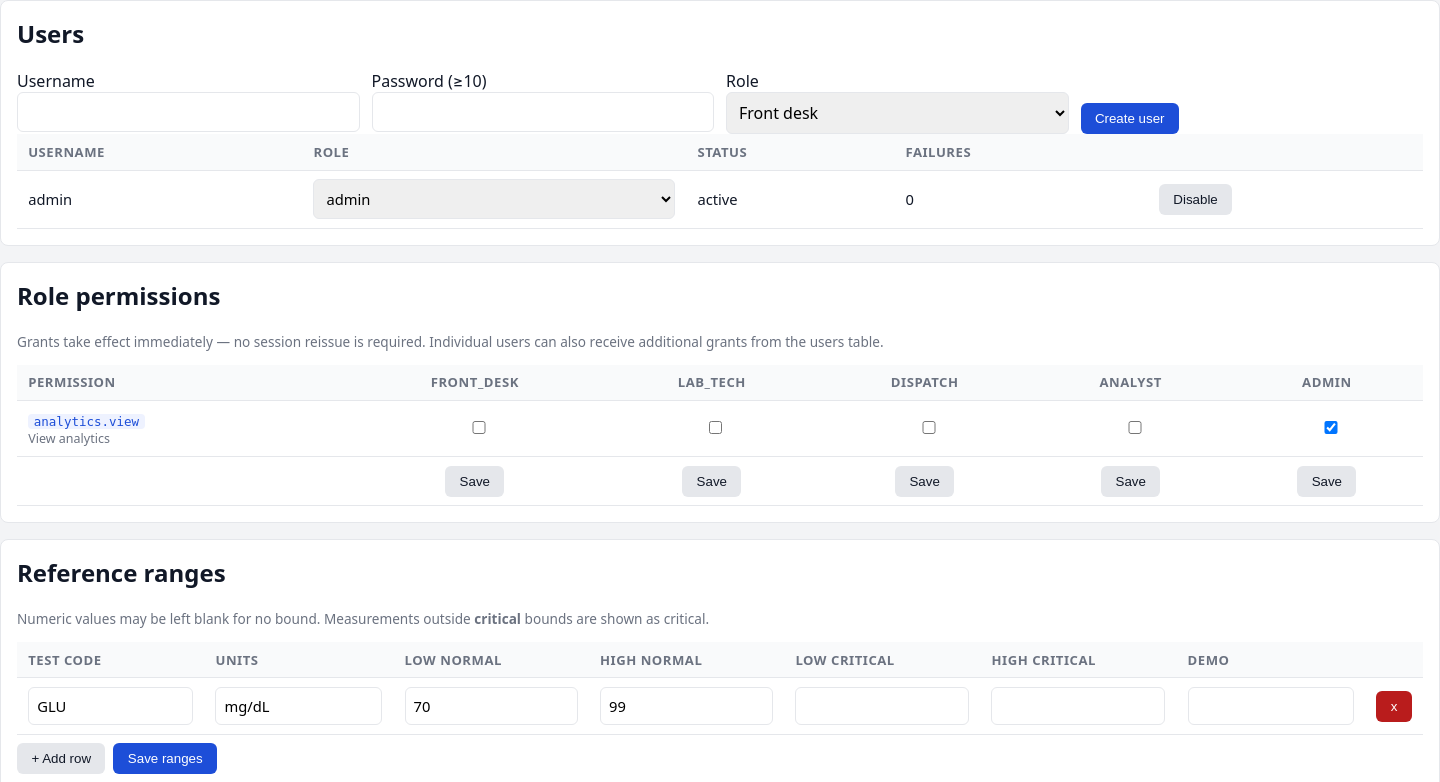
it: AdminPage › rejects new-user with short password
This screenshot has width=1440, height=782.
# Username + short password.
Type "newuser" into the field below "Password (≥10)" at point(188, 112), box [17,92,360,132]
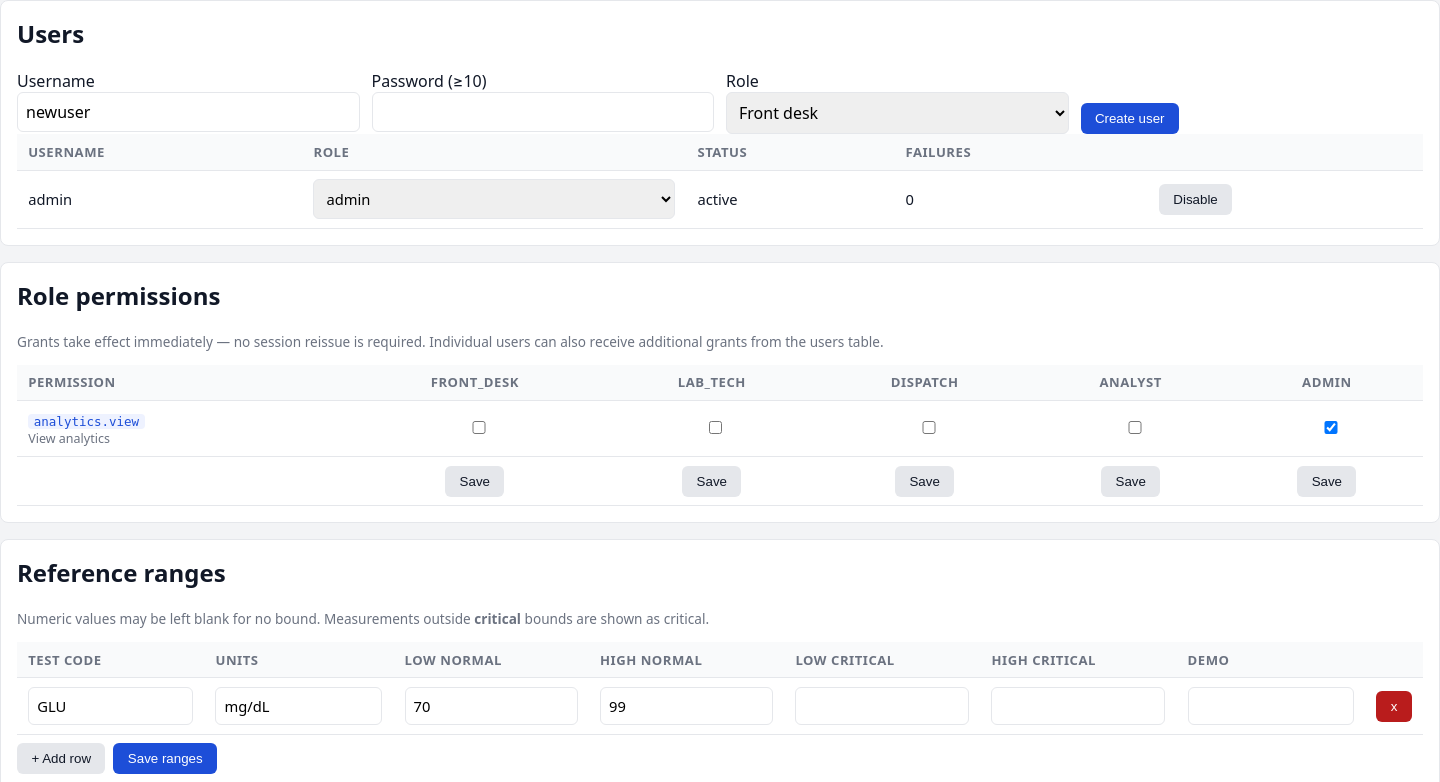
Click the button "Create user" at point(1130, 118), box [1080,103,1179,134]
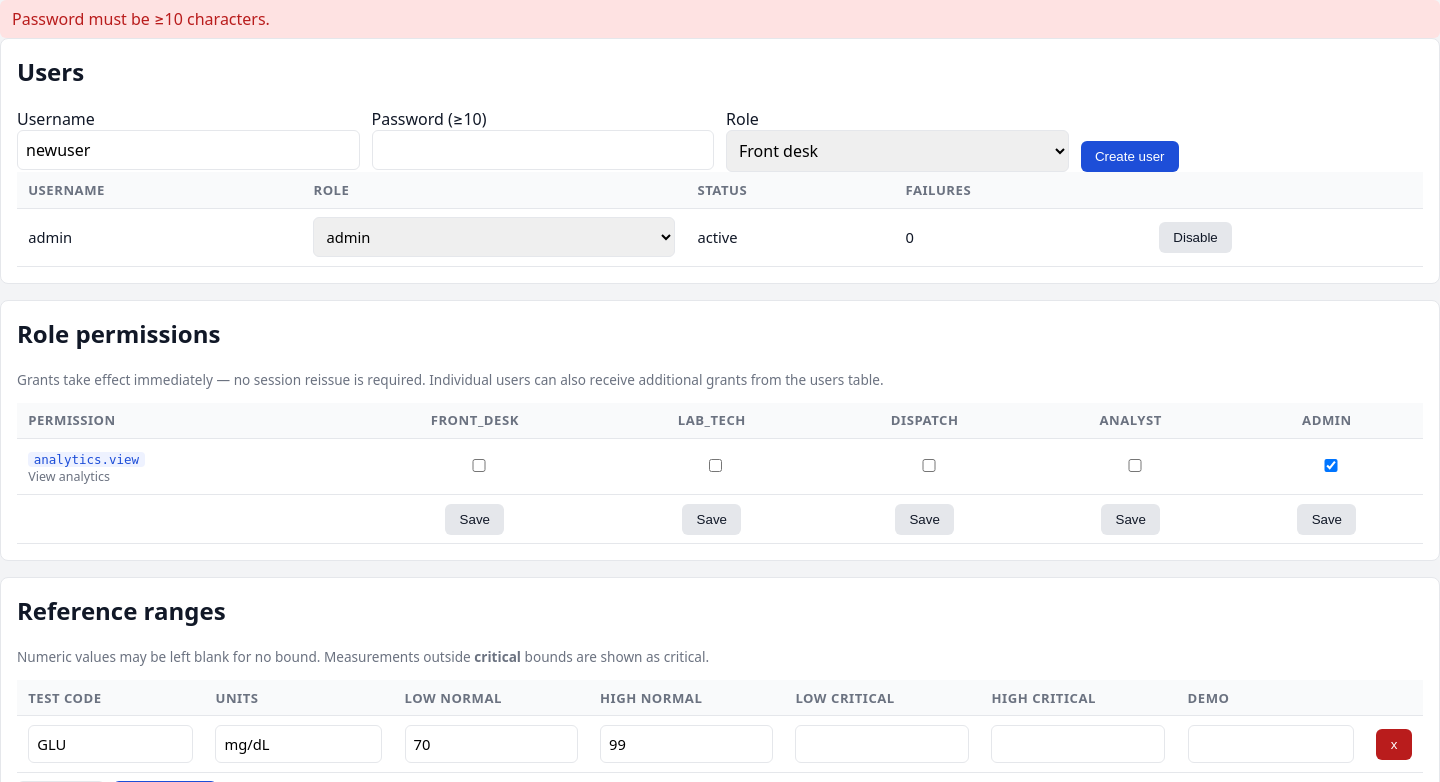
Expected: the message shows "≥10 characters", [12,8,270,30]
